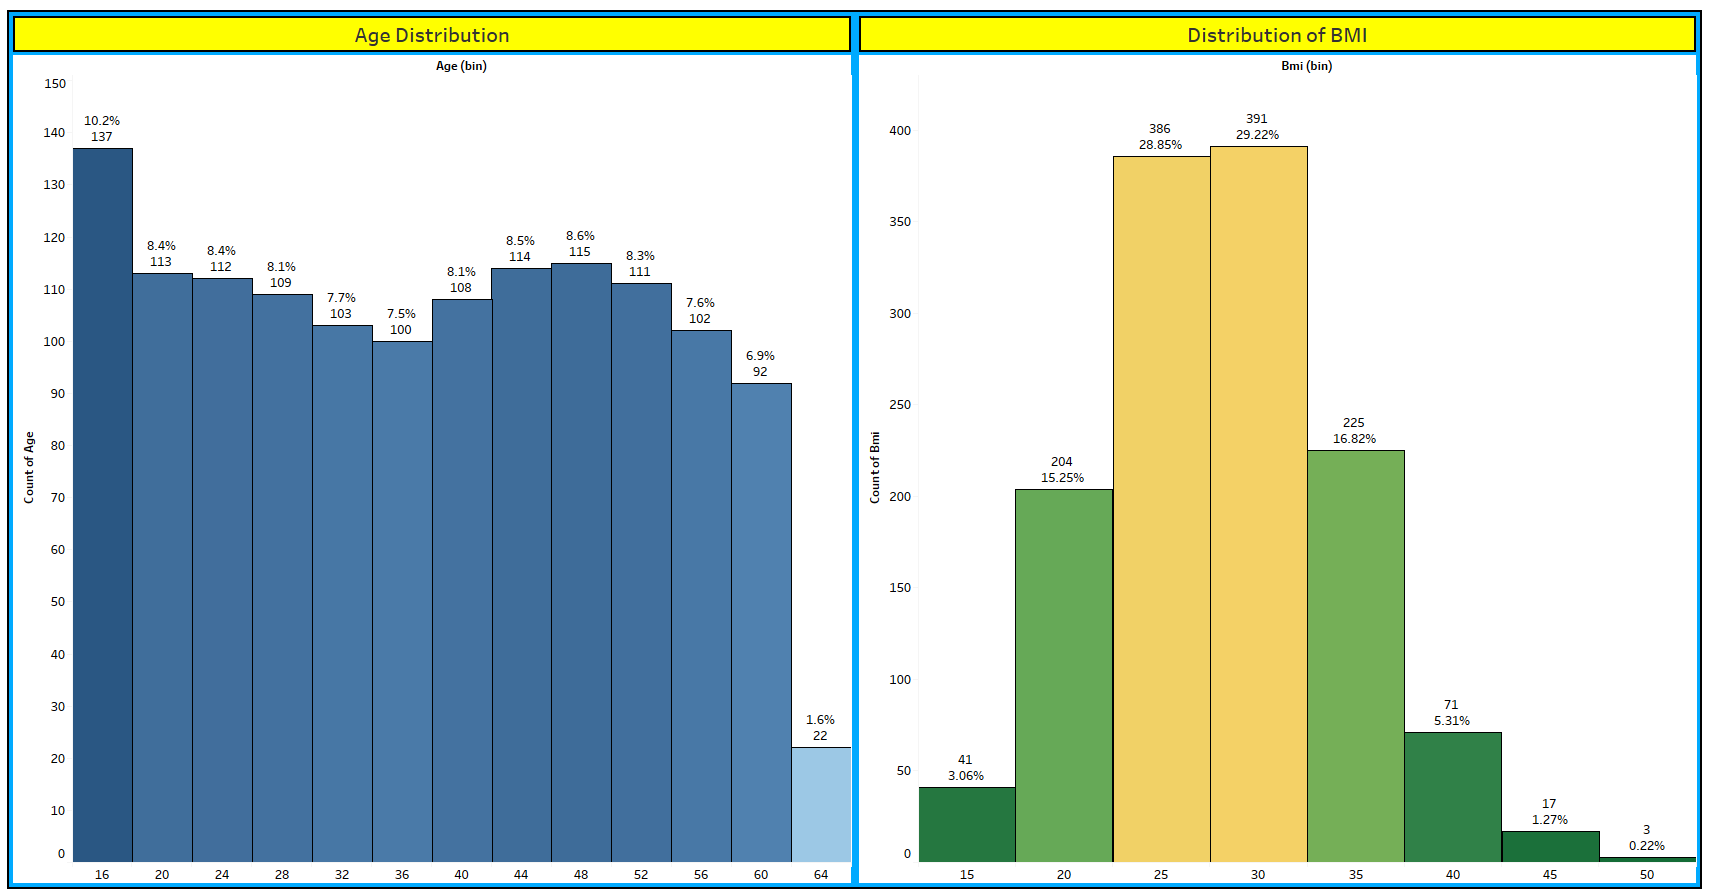

What the dashboard file says about the page in this screenshot:
{"tool":"tableau","page":{"name":"Dashboard 2","canvas":[1000,1000],"units":"permille","ordinal":1},"visuals":[{"type":"worksheet","title":"Age Distribution","mark":"Bar","rows":["age"],"cols":["Age (bin)"],"box":[5.3,13.4,494.7,976.6]},{"type":"worksheet","title":"Distribution of BMI","mark":"Automatic","rows":["bmi"],"cols":["Bmi (bin)"],"box":[500,13.4,494.7,976.6]}]}

Visuals, with their boxes on the dashboard's canvas, which has no fixed pixel size, in thousandths of its width and height (x1, y1, x2, y2). These are canvas units, not pixel positions in the 1709x896 screenshot, which may show the page scaled, cropped or inside an application window:
"Age Distribution" worksheet (Bar marks): <box>5,13,500,990</box>
"Distribution of BMI" worksheet: <box>500,13,995,990</box>
